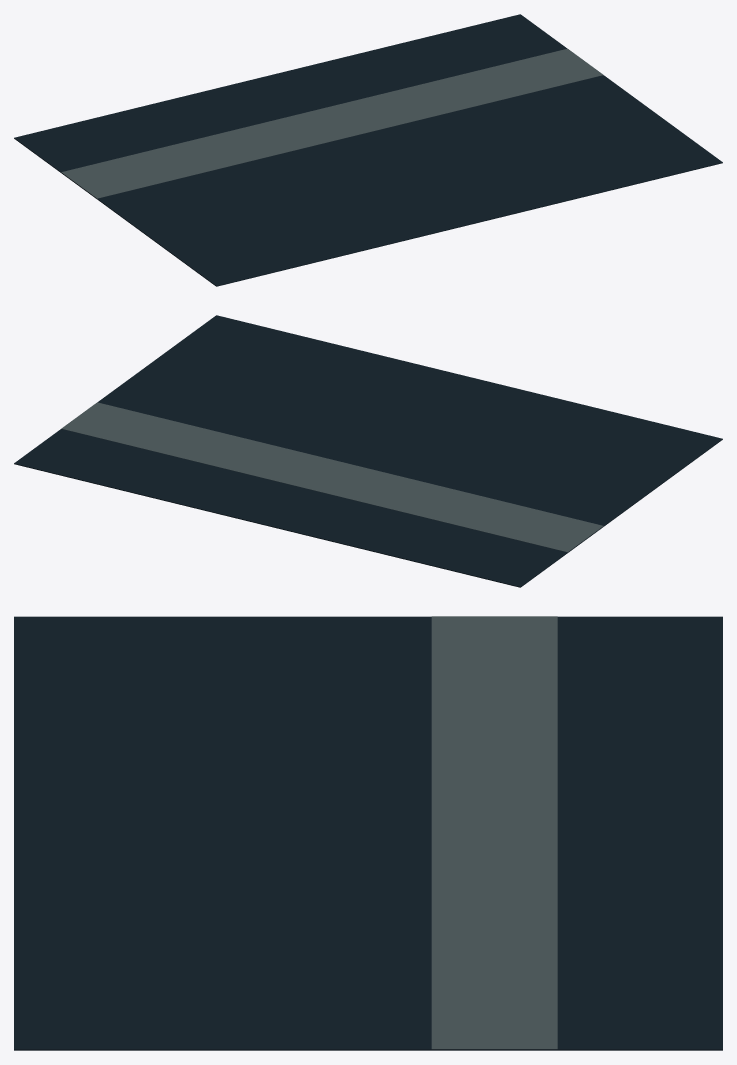
File: smg_wedgewire_review_pad.glb
3 renders of one model, top to bottom at view 1: azimuth 30°, elevation 25°; view 2: azimuth 150°, elevation 25°; view 3: azimuth 270°, elevation 25°, orthographic. The views are drawn at different scales.
Visible parts, largest first — view 1: Review_PetrolPad, Review_ConcreteStrip; view 2: Review_PetrolPad, Review_ConcreteStrip; view 3: Review_PetrolPad, Review_ConcreteStrip.
Boxes of the visible parts, bbox=[...] form: Review_PetrolPad: bbox=[14, 14, 722, 286]; Review_ConcreteStrip: bbox=[61, 48, 603, 198]; Review_PetrolPad: bbox=[14, 315, 722, 587]; Review_ConcreteStrip: bbox=[61, 402, 603, 552]; Review_PetrolPad: bbox=[14, 616, 722, 1050]; Review_ConcreteStrip: bbox=[431, 616, 557, 1049].
Size of the model in its own units: 65 by 0.118 by 45.
